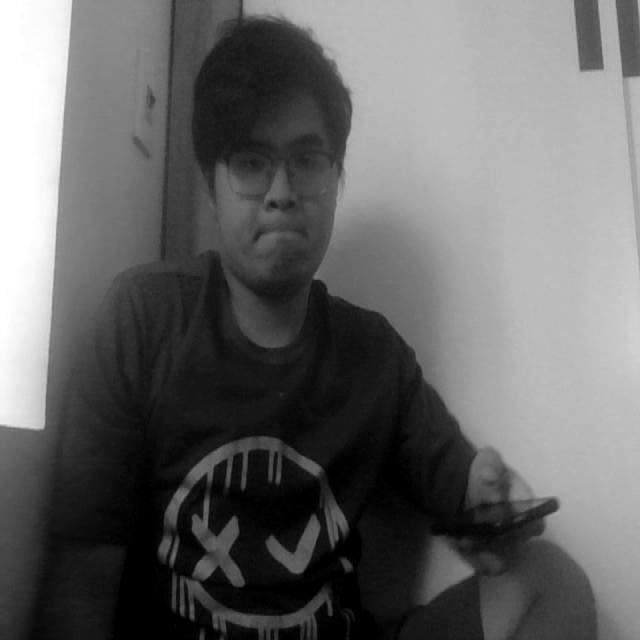phone: (457, 478, 572, 562)
